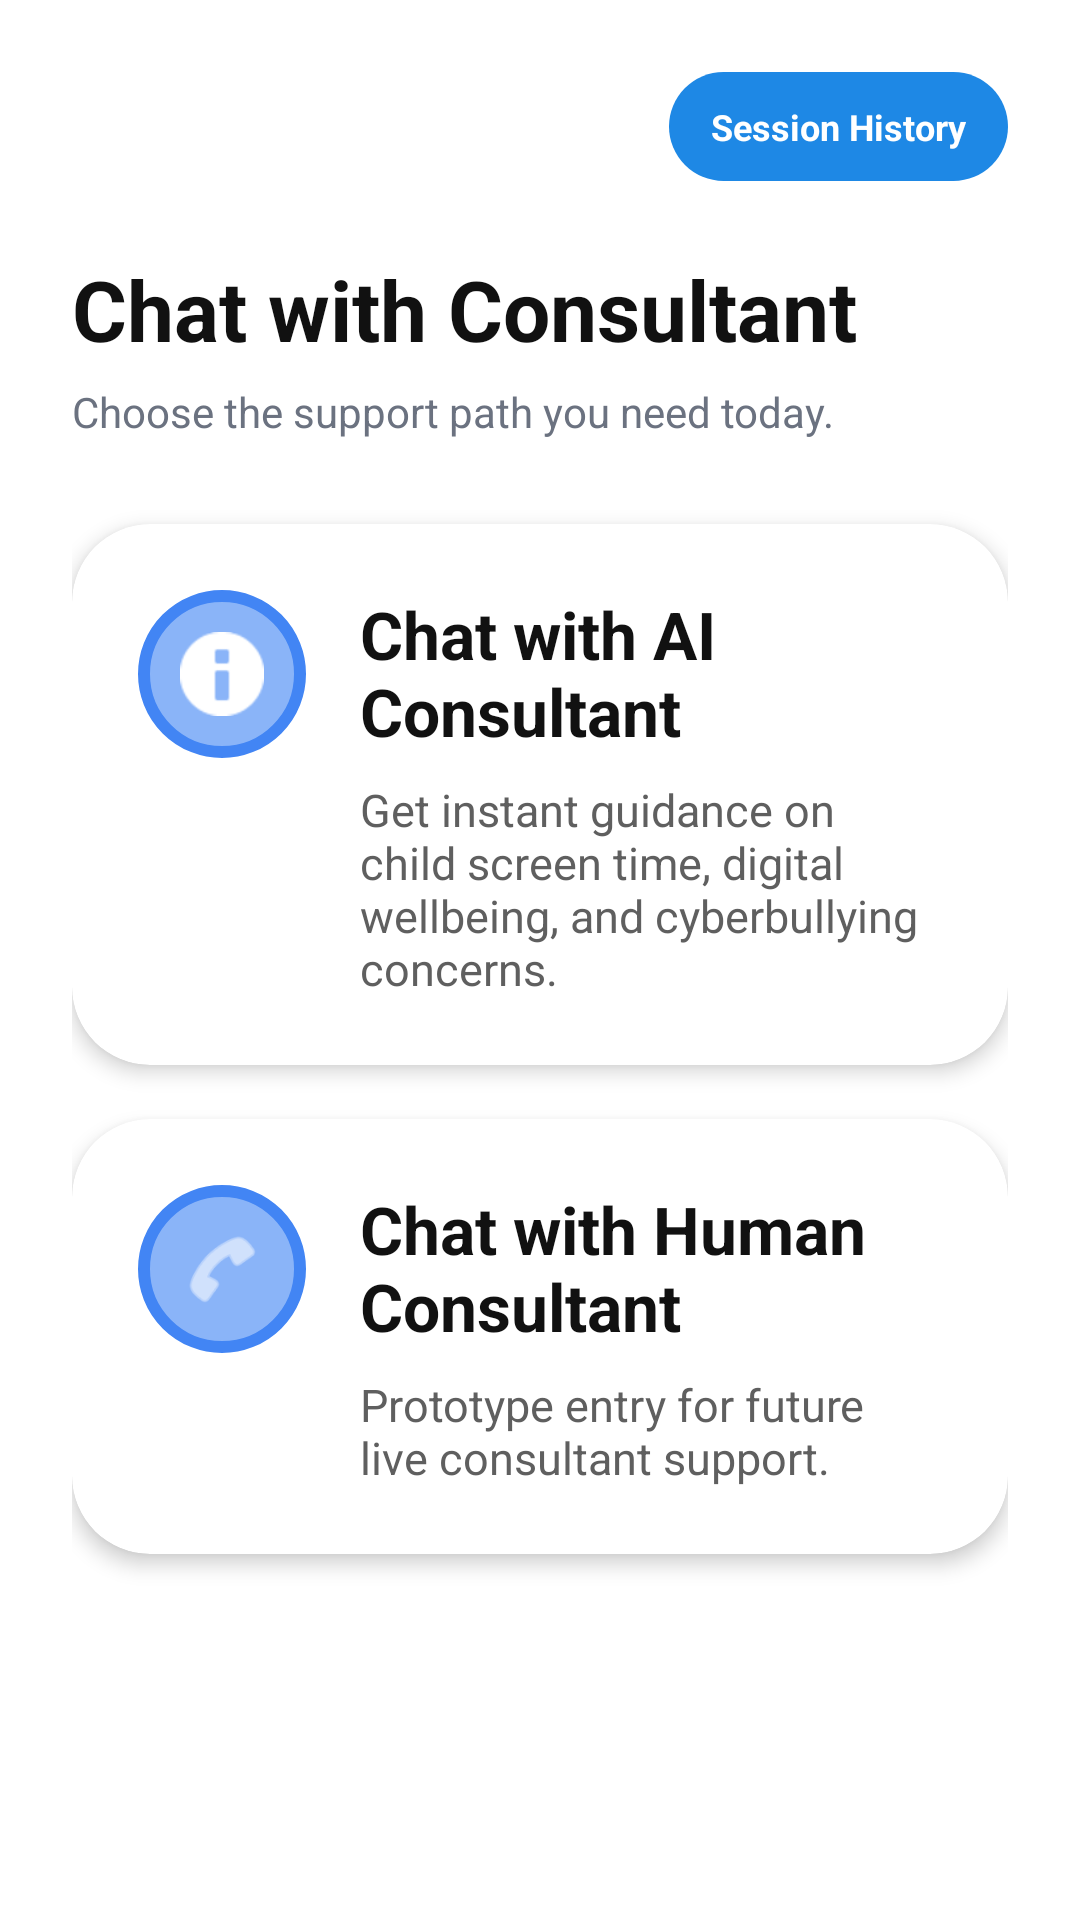

Where to tap for icons on this 1080*1920 app screen, as point (x, y):
call: point (222, 1269)
info: point (222, 674)
